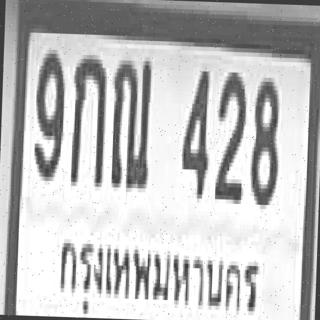A01: (69, 50, 106, 183)
A19: (110, 54, 150, 186)
N02: (213, 68, 245, 200)
N04: (179, 66, 210, 195)
N08: (249, 73, 279, 201)
N09: (32, 45, 64, 177)
P04: (56, 217, 265, 320)
